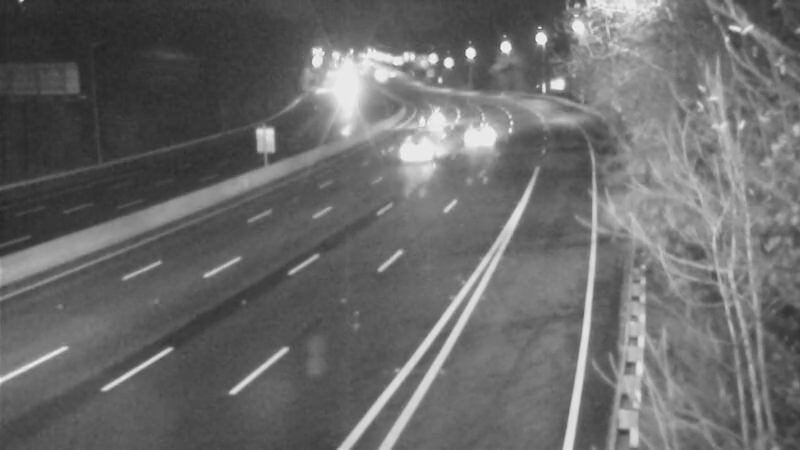vehicle: (386, 111, 466, 191), (405, 95, 455, 145), (453, 110, 503, 160)
